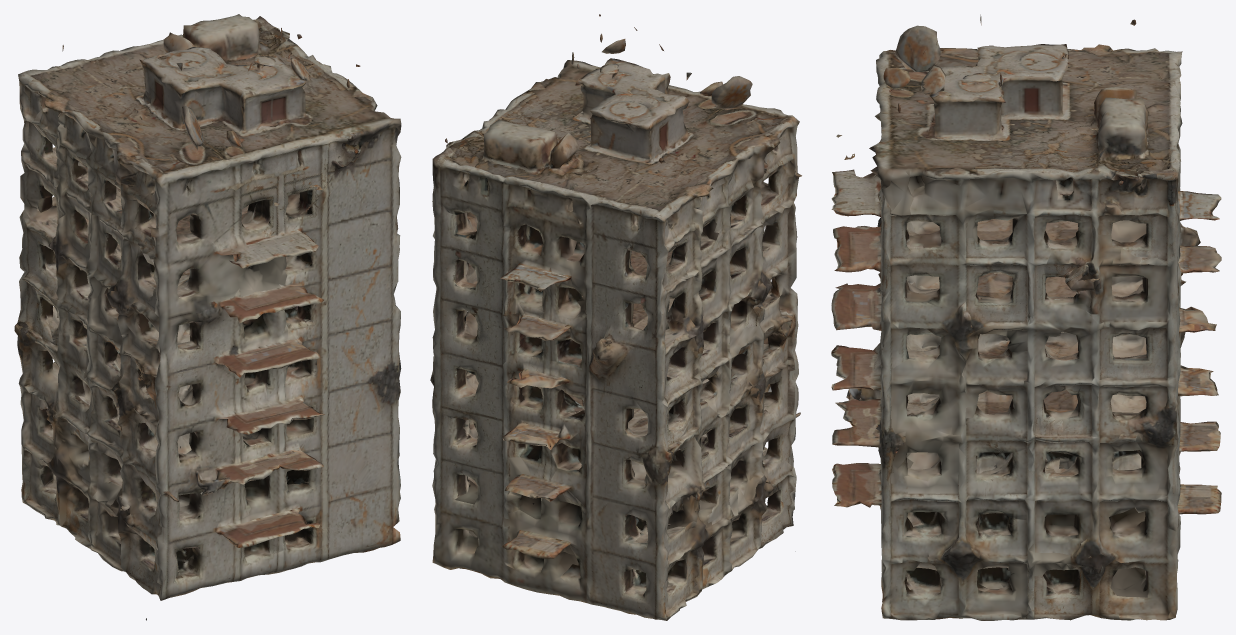
Rendered from Bldg_MidRise.glb.
3 views of the same model, side by side, from view 1: azimuth 30°, elevation 25°; view 2: azimuth 150°, elevation 25°; view 3: azimuth 270°, elevation 25° (orthographic). The views are drawn at different scales.
Visible parts, largest first — view 1: texture_mapping; view 2: texture_mapping; view 3: texture_mapping.
Boxes of the visible parts, x1,y1,x2,y2 form: texture_mapping: [14, 14, 401, 620]; texture_mapping: [430, 14, 801, 620]; texture_mapping: [831, 14, 1221, 620].
Bounding box in the file's own units: 0.5202 × 0.9717 × 0.6275.
1 material, 1 textured.
